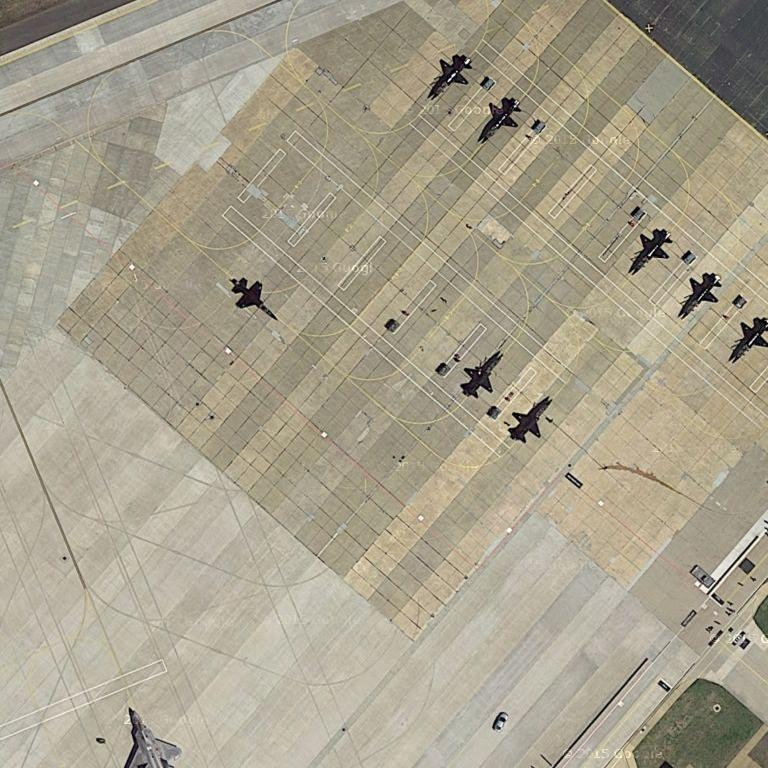F-22: (119, 704, 181, 766)
plane: (225, 272, 281, 325), (458, 347, 502, 404), (629, 222, 672, 278), (428, 49, 473, 102), (479, 92, 524, 144), (679, 269, 723, 322), (508, 396, 553, 446), (729, 313, 768, 367)
